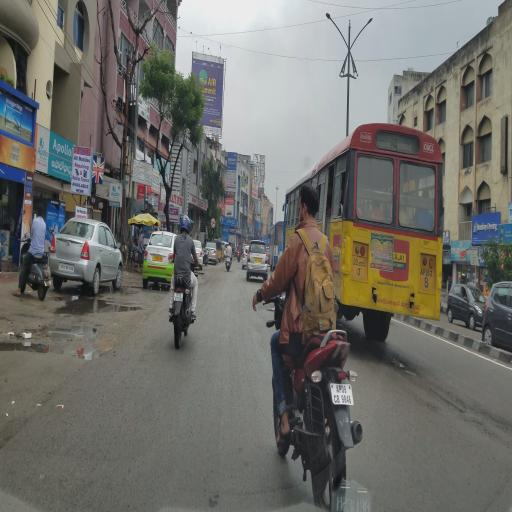street_light_0: (345, 2, 387, 70), (308, 5, 350, 73)
